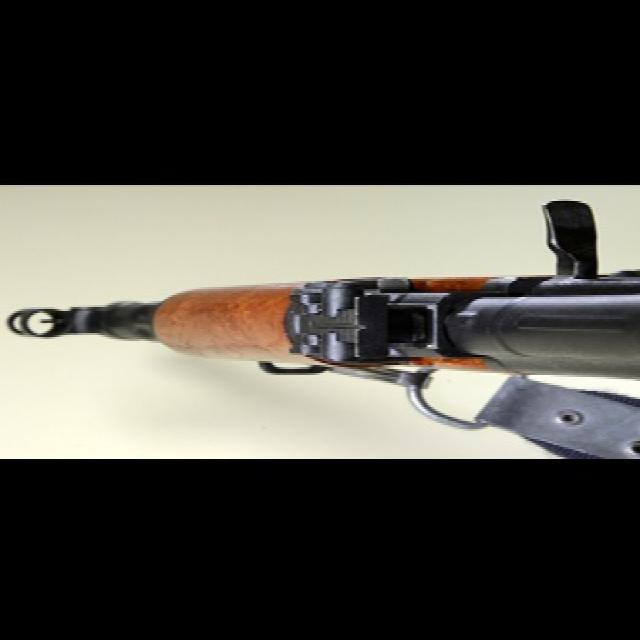rifle: (11, 203, 638, 415)
